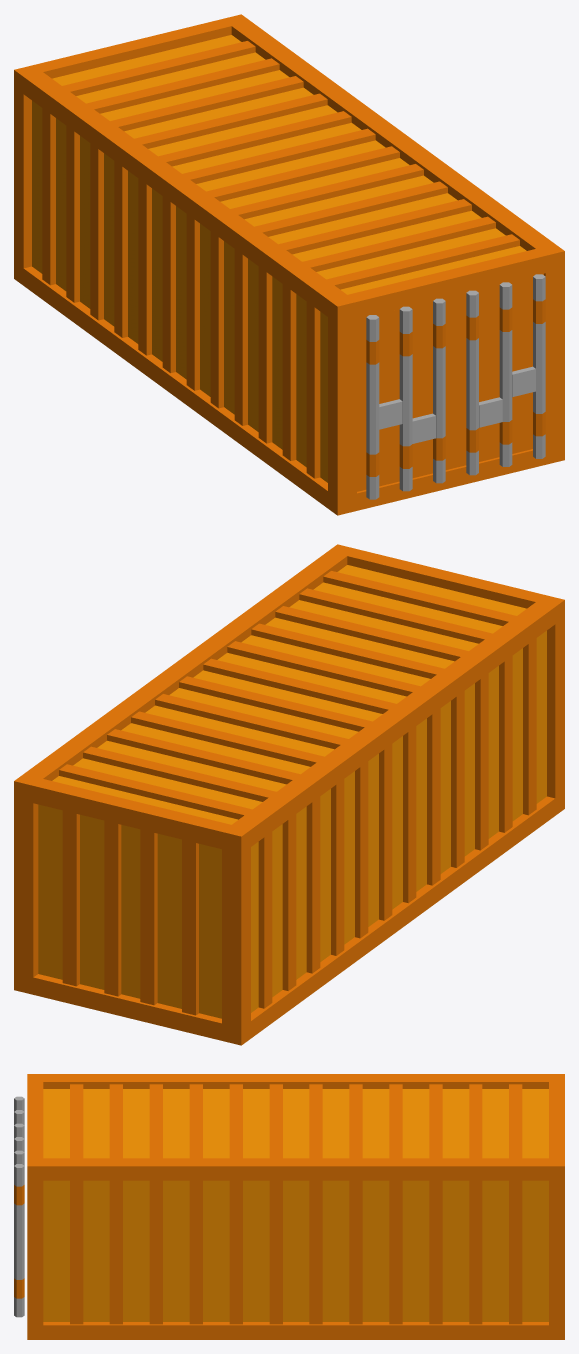
The model's file is Container4.fbx.
3 renders of one model, top to bottom at view 1: azimuth 30°, elevation 25°; view 2: azimuth 150°, elevation 25°; view 3: azimuth 270°, elevation 25°, orthographic. The views are drawn at different scales.
Parts seen in each view (by area): view 1: Container; view 2: Container; view 3: Container.
Boxes of the visible parts, <box> form: Container: <box>14,14,564,515</box>; Container: <box>14,544,564,1045</box>; Container: <box>14,1074,564,1339</box>.
Size of the model in its own units: 410 by 360 by 1035.
